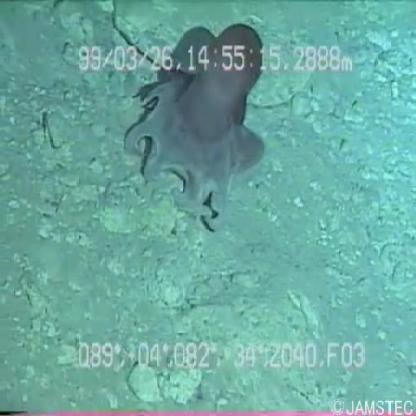Bio: (122, 19, 270, 236)
